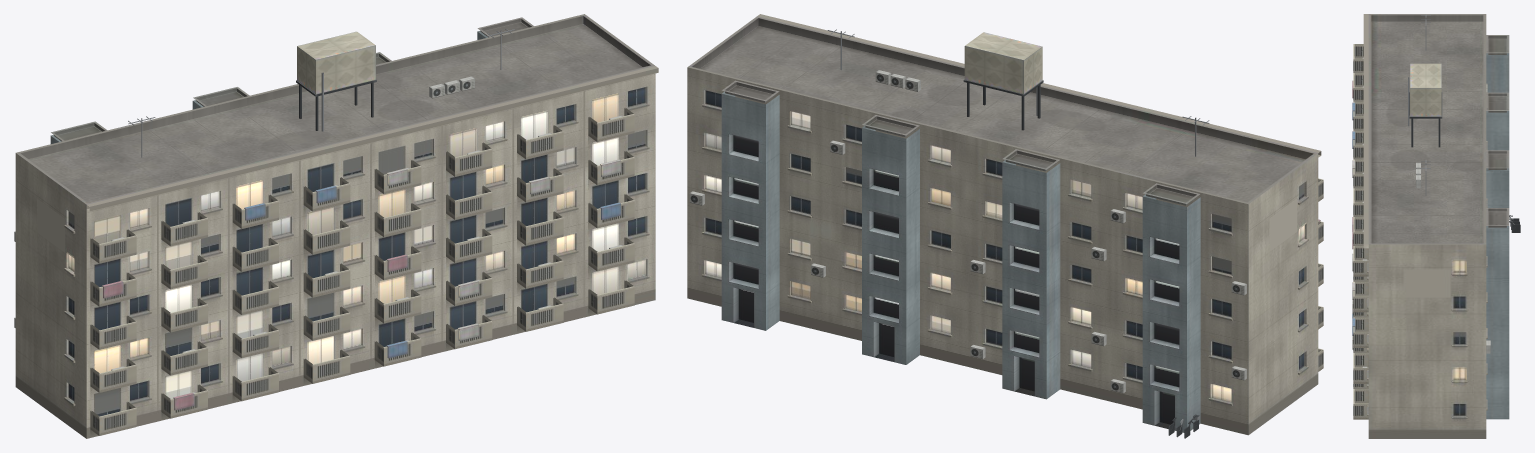
The model's file is tokyo_apartment_b.glb.
The picture shows the model from 3 angles, left to right: view 1: azimuth 30°, elevation 25°; view 2: azimuth 150°, elevation 25°; view 3: azimuth 270°, elevation 25°; orthographic projection. The views are drawn at different scales.
Visible parts, largest first — view 1: tokyo_apartment_b; view 2: tokyo_apartment_b; view 3: tokyo_apartment_b.
Boxes of the visible parts, left/top/right/bottom form: tokyo_apartment_b: left=14, top=14, right=658, bottom=438; tokyo_apartment_b: left=687, top=14, right=1323, bottom=438; tokyo_apartment_b: left=1352, top=14, right=1520, bottom=438.
Size of the model in its own units: 38.22 by 19.05 by 11.73.
Materials: 1 (1 with a texture image).
